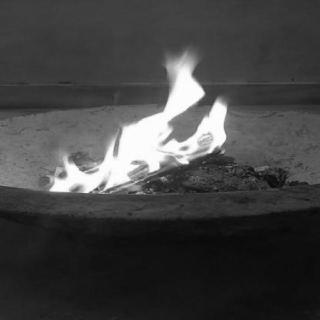Fire: (42, 43, 236, 199)
